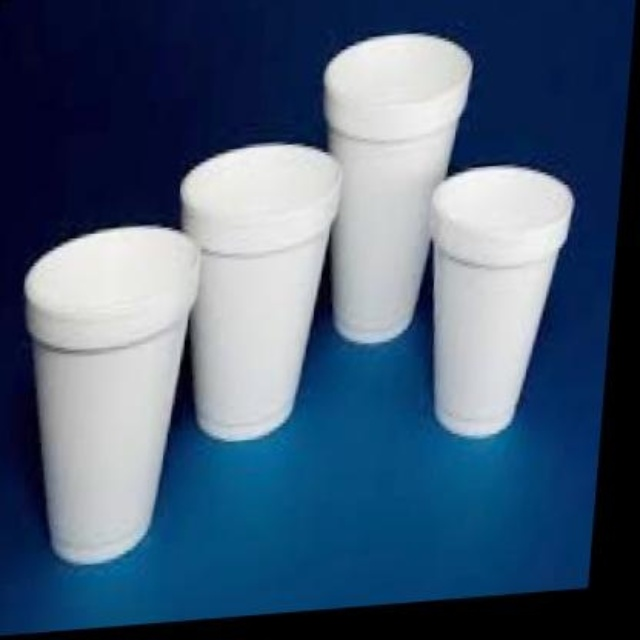trash: (25, 226, 198, 563), (180, 143, 340, 440), (325, 34, 471, 342), (431, 166, 572, 435)
